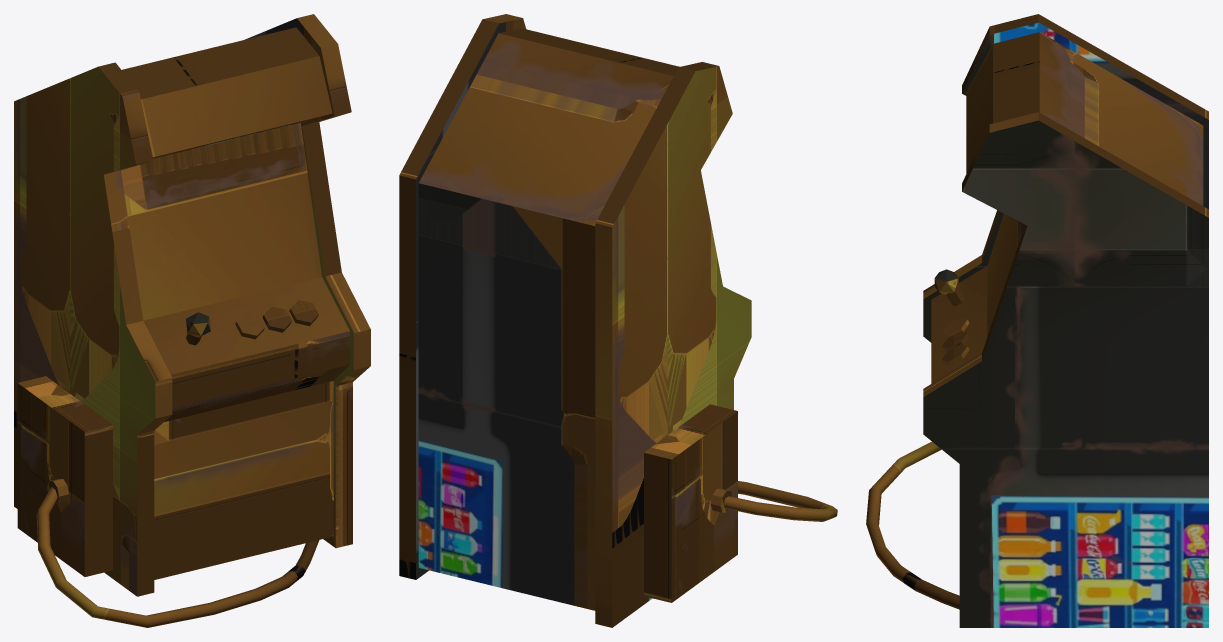
The model's file is game_box1.fbx.
The picture shows the model from 3 angles, left to right: view 1: azimuth 30°, elevation 25°; view 2: azimuth 150°, elevation 25°; view 3: azimuth 270°, elevation 25°; orthographic projection. The views are drawn at different scales.
Parts seen in each view (by area): view 1: Game_box; view 2: Game_box; view 3: Game_box.
Part boxes in pixels (x1,y1,x2,y2): Game_box: (14, 14, 370, 627); Game_box: (399, 14, 837, 627); Game_box: (866, 14, 1208, 627).
Bounding box in the file's own units: 129 × 205 × 125.
